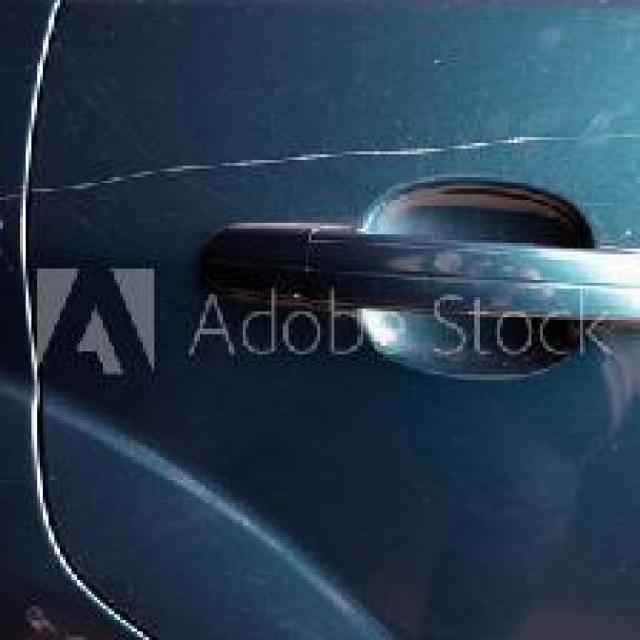damaged: (0, 128, 637, 200)
